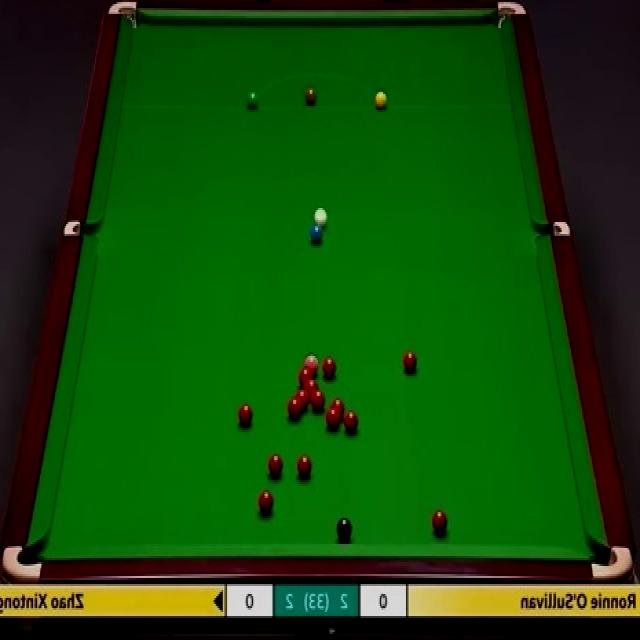black-ball: (337, 514, 352, 542)
blue-ball: (310, 222, 324, 246)
brown-ball: (306, 88, 318, 106)
green-ball: (247, 90, 258, 110)
pink-ball: (303, 354, 319, 368)
red-ball: (430, 510, 448, 535), (258, 490, 275, 516), (321, 355, 337, 381), (324, 407, 340, 429), (268, 454, 284, 476), (236, 404, 252, 426), (296, 455, 312, 477), (403, 349, 418, 372), (287, 396, 301, 420), (343, 411, 358, 432), (310, 391, 326, 408), (294, 390, 309, 407), (331, 396, 345, 414), (302, 379, 320, 392), (296, 369, 314, 380)
white-ball: (313, 205, 329, 228)
yellow-ball: (373, 89, 388, 110)
